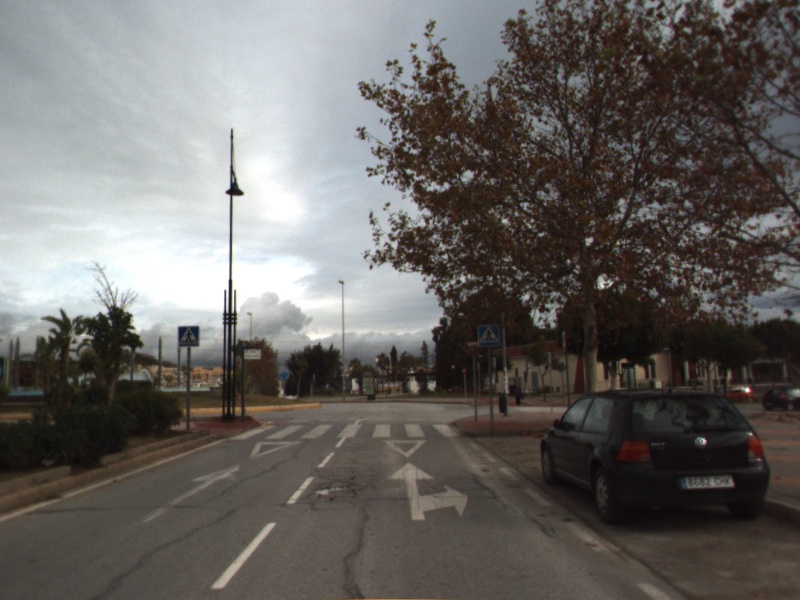STRAIGHT: (140, 461, 242, 525)
STRAIGHT_RIGHT: (385, 460, 470, 523)
